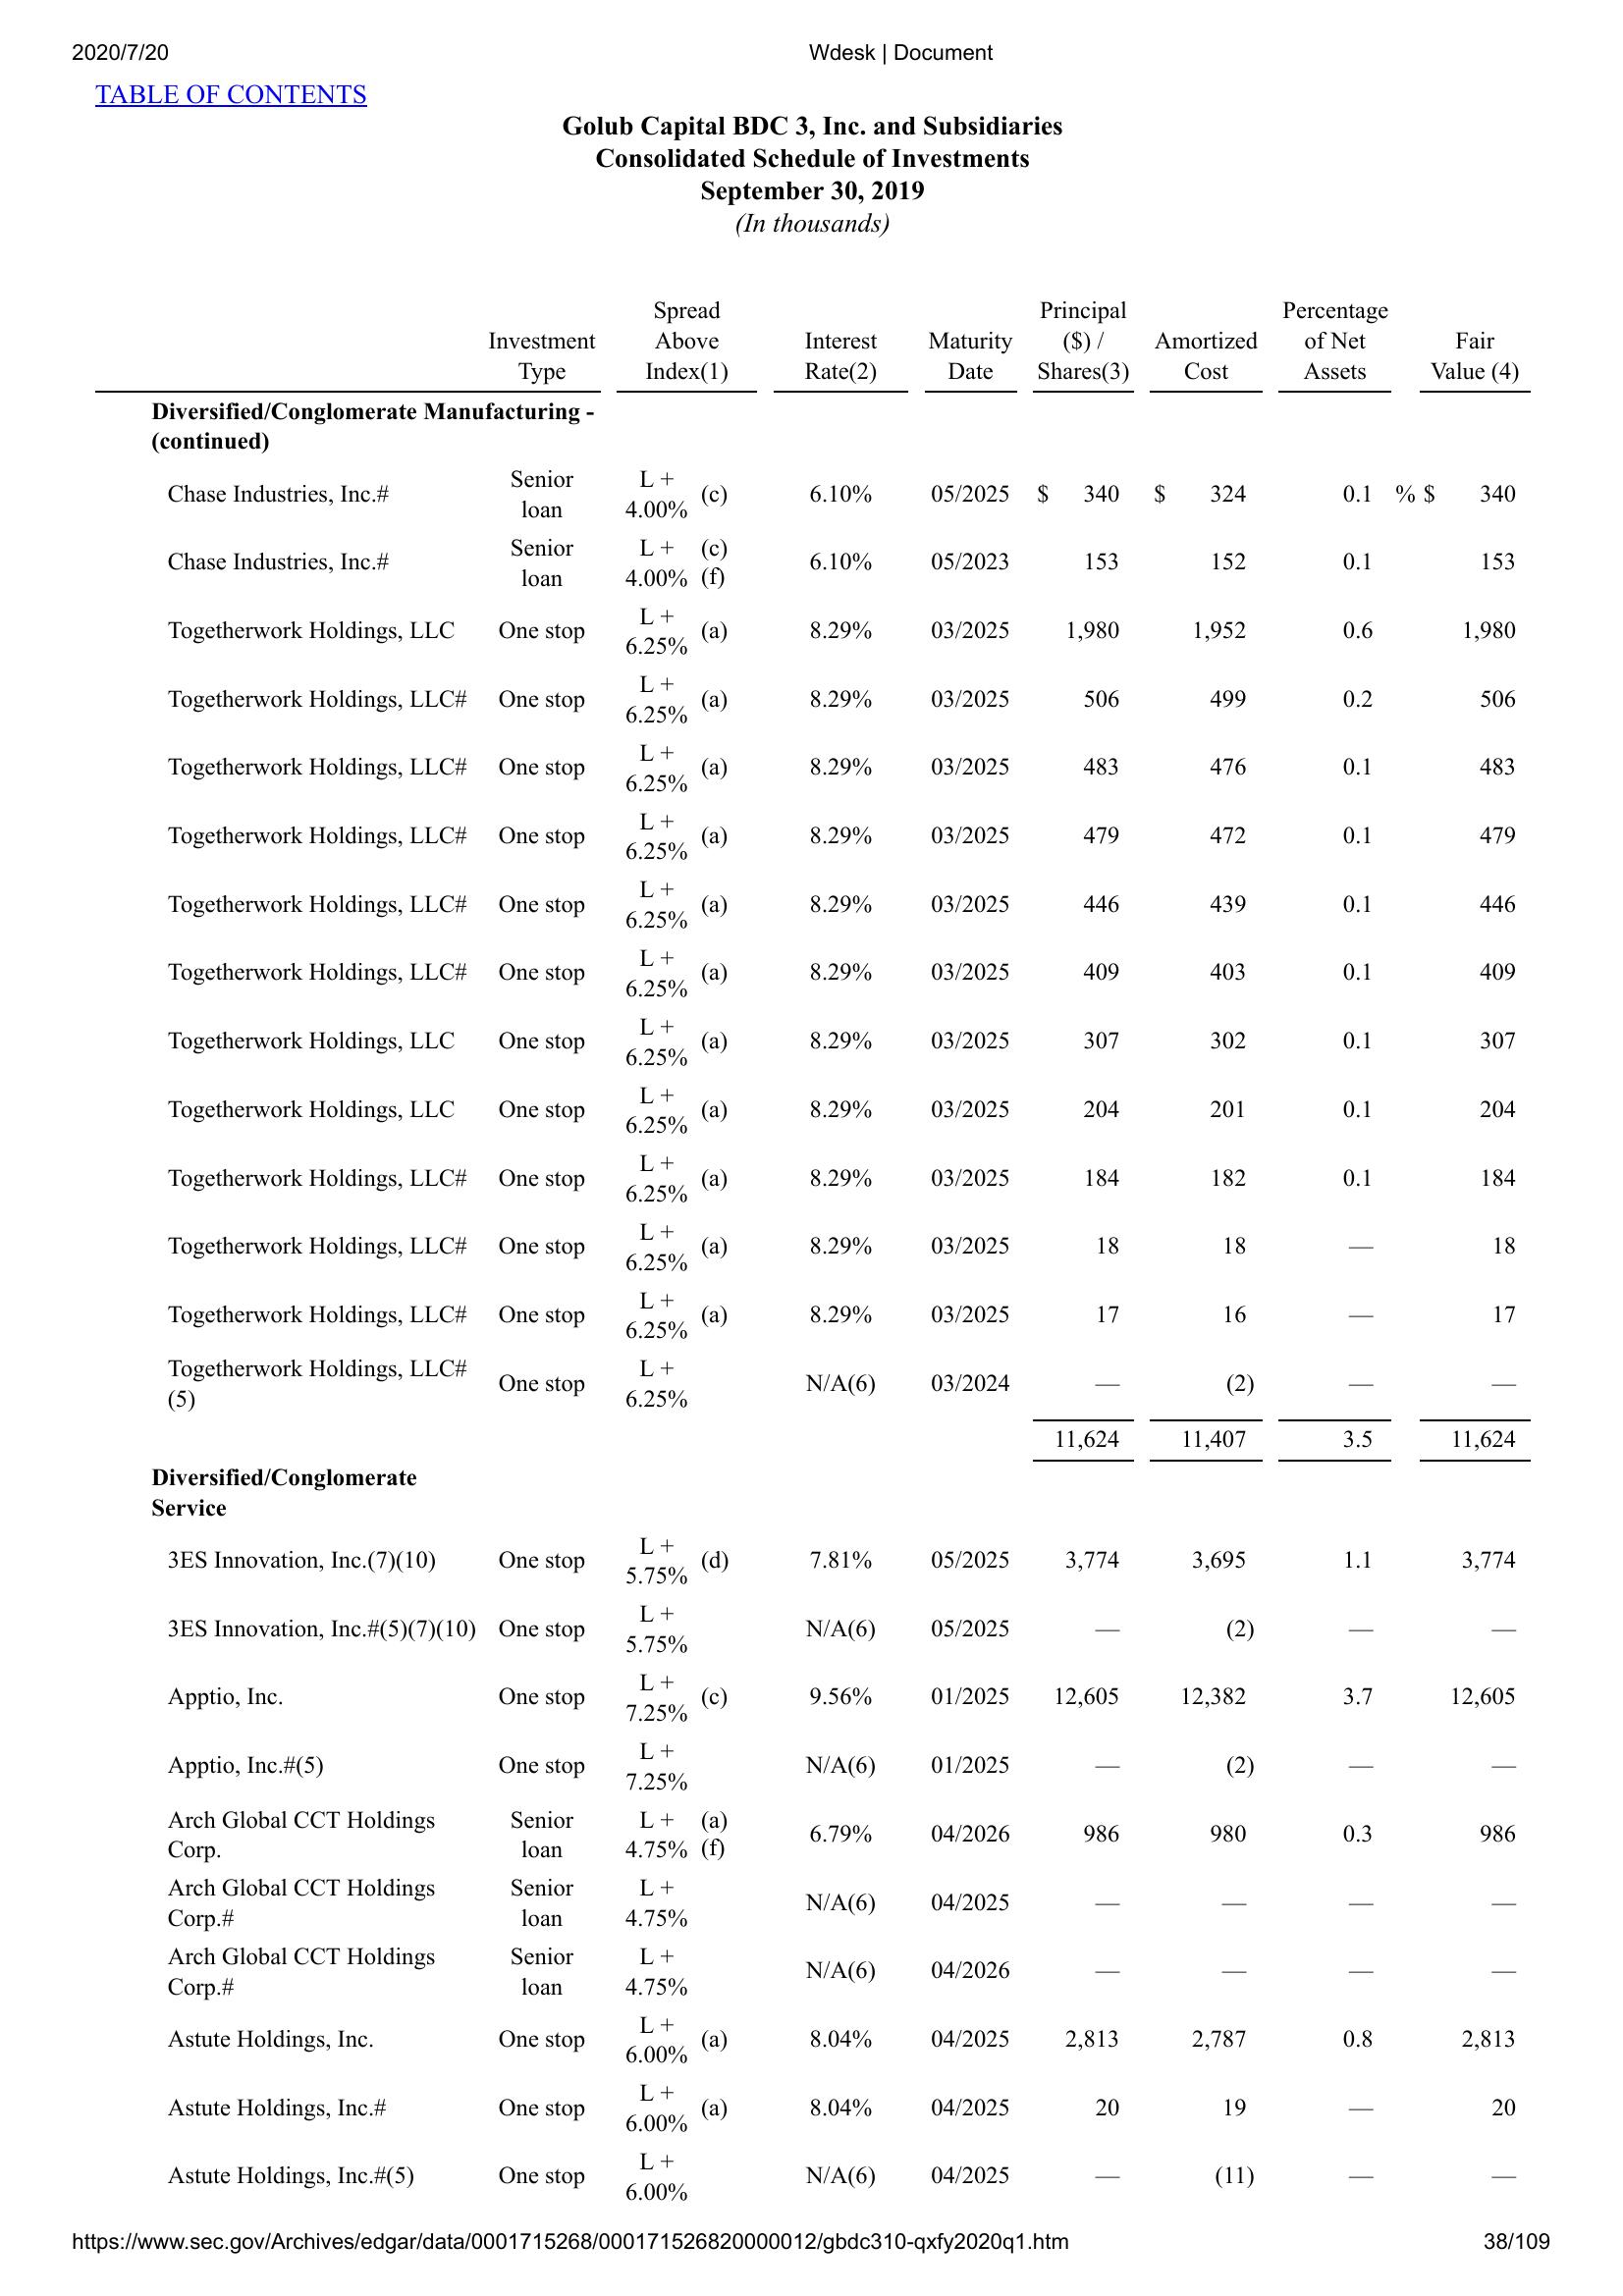table: (86, 291, 1546, 2210)
